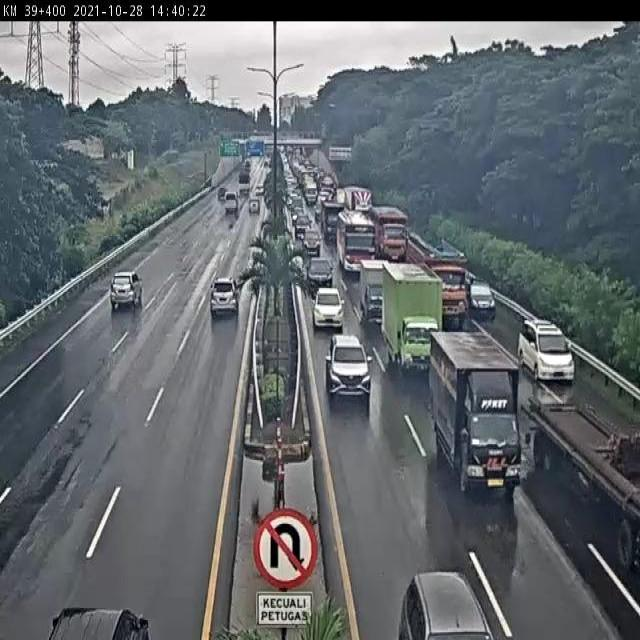big bus: (331, 210, 372, 274)
car: (517, 318, 577, 386), (324, 332, 374, 400), (311, 282, 348, 330), (106, 268, 143, 307), (209, 273, 241, 312), (469, 276, 497, 317), (305, 258, 331, 286)
truck-l-: (408, 233, 469, 327), (374, 203, 406, 260)
truck-m-: (431, 331, 523, 500), (381, 261, 441, 371)
truck-s-: (356, 260, 388, 323)
